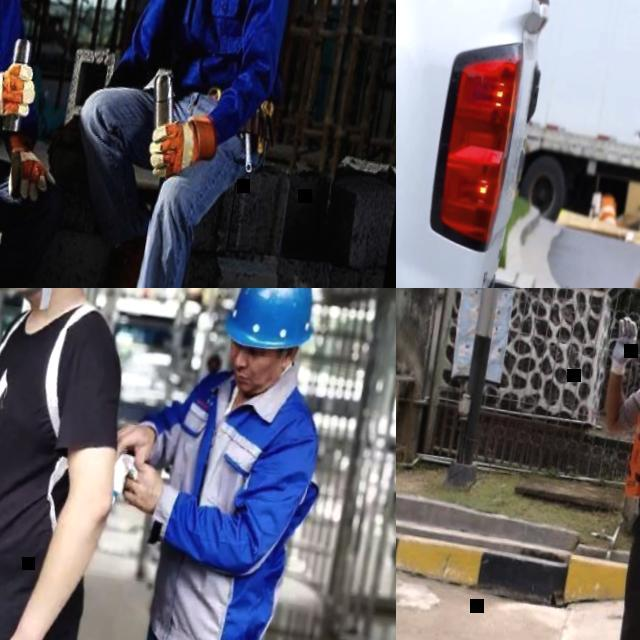helmet: (213, 288, 324, 360)
